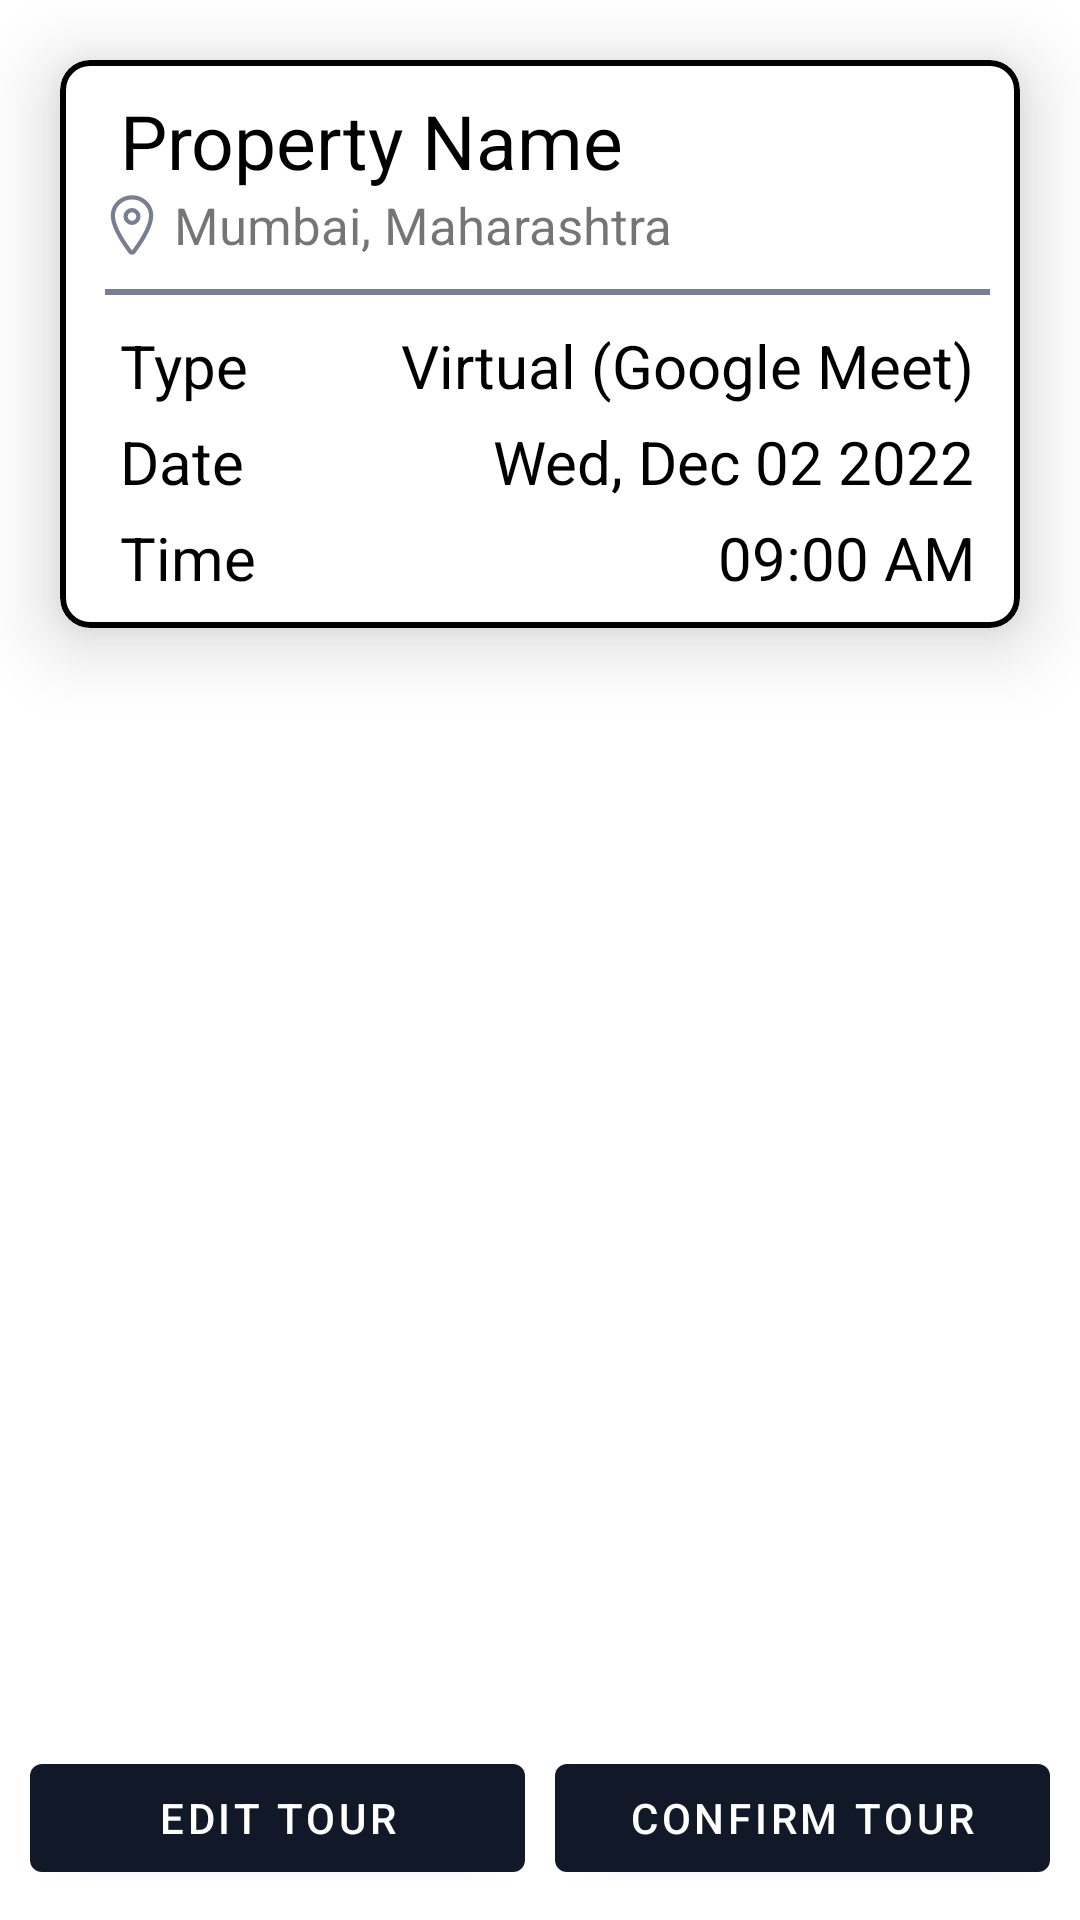

Locate icon controls on the screen. Image size 1080 × 1920, boxes as (x1, y1, x2, y2).
location: (110, 195, 154, 255)
